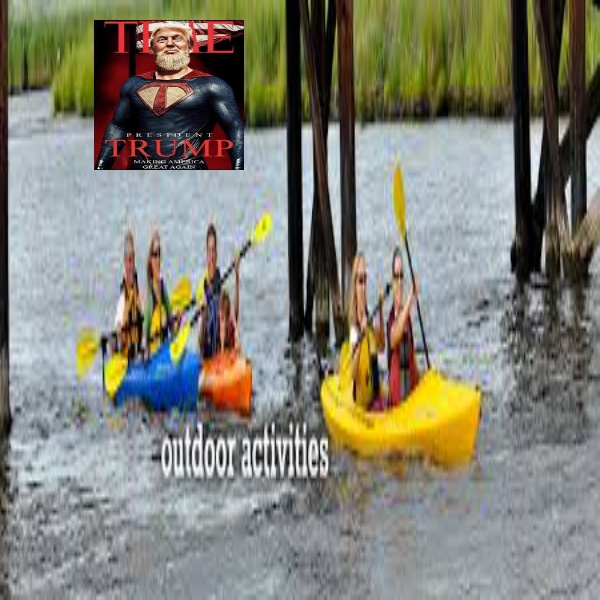time_cover: (88, 6, 250, 174)
